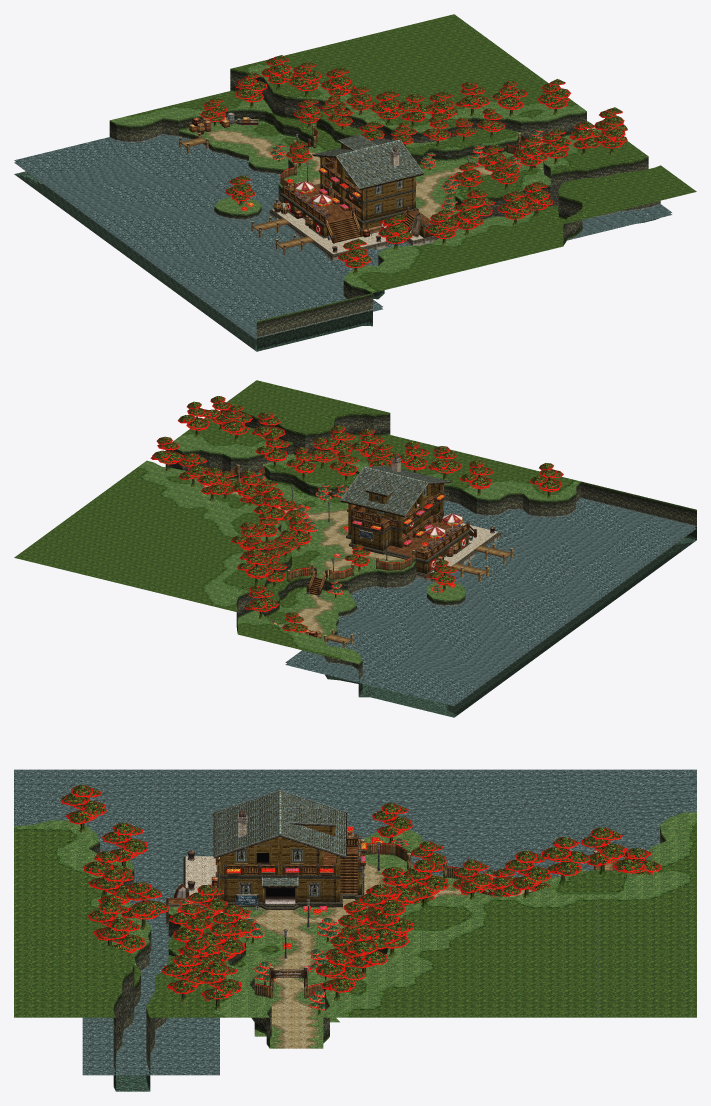
File: ValleriaLake.obj
The picture shows the model from 3 angles, top to bottom: view 1: azimuth 30°, elevation 25°; view 2: azimuth 150°, elevation 25°; view 3: azimuth 270°, elevation 25°; orthographic projection. The views are drawn at different scales.
Parts seen in each view (by area): view 1: Object.002; view 2: Object.002; view 3: Object.002.
Boxes of the visible parts, x1,y1,x2,y2 form: Object.002: (14, 14, 696, 351); Object.002: (14, 380, 696, 717); Object.002: (14, 769, 696, 1091).
Bounding box in the file's own units: 83.3 × 20.04 × 79.51.
Materials: 30 (30 with a texture image).
